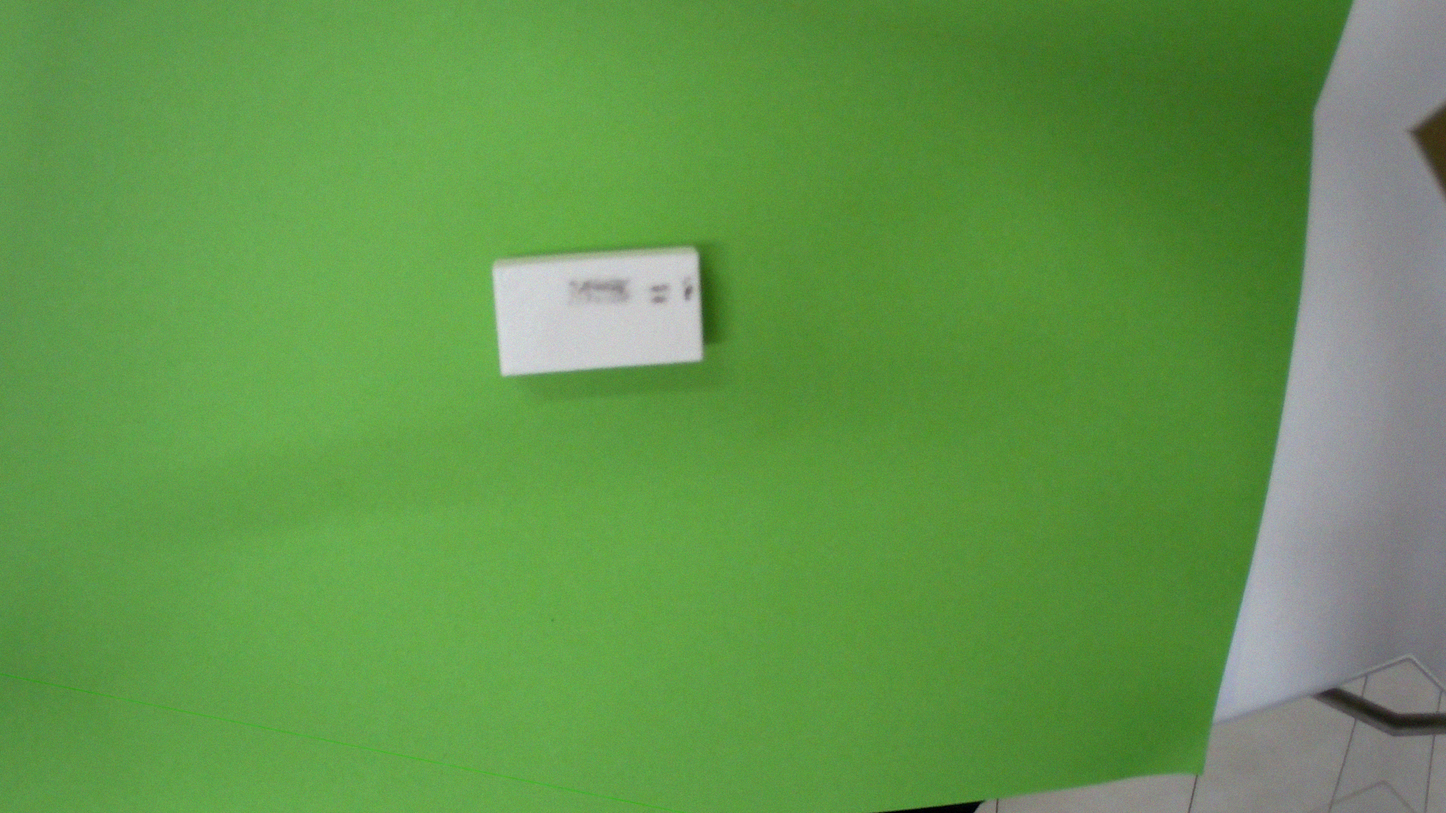gom: (470, 204, 737, 417)
